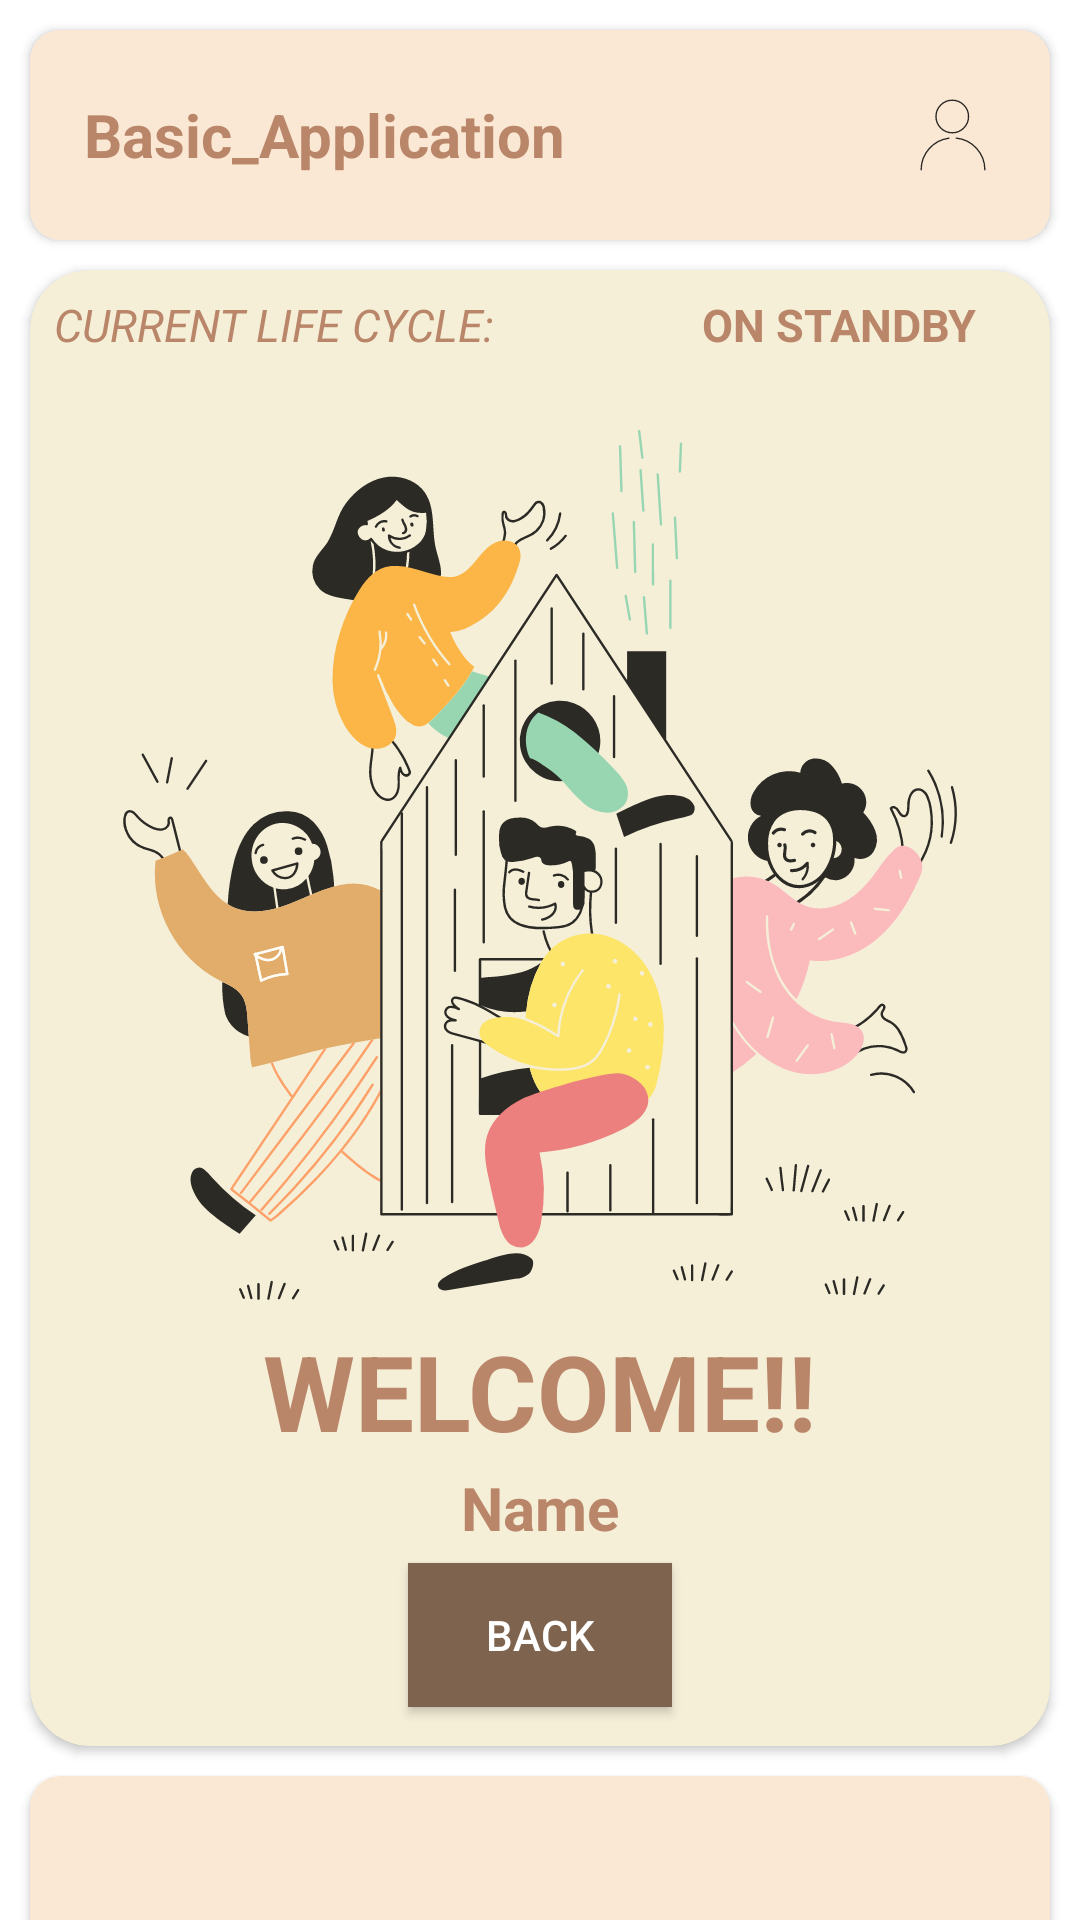

Named icons in this screenshot (1080*1920) and their bounding boxes, bbox=(x1, y1, x2, y2):
user: bbox=(920, 99, 986, 171)
